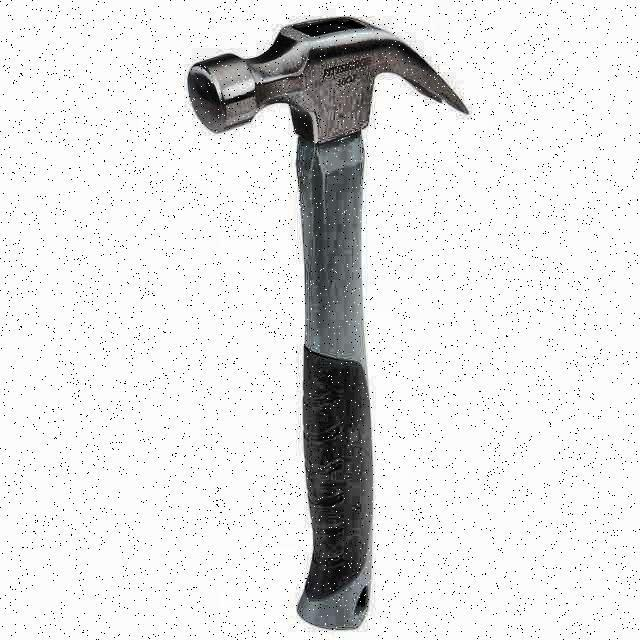hammer: (187, 13, 477, 633)
